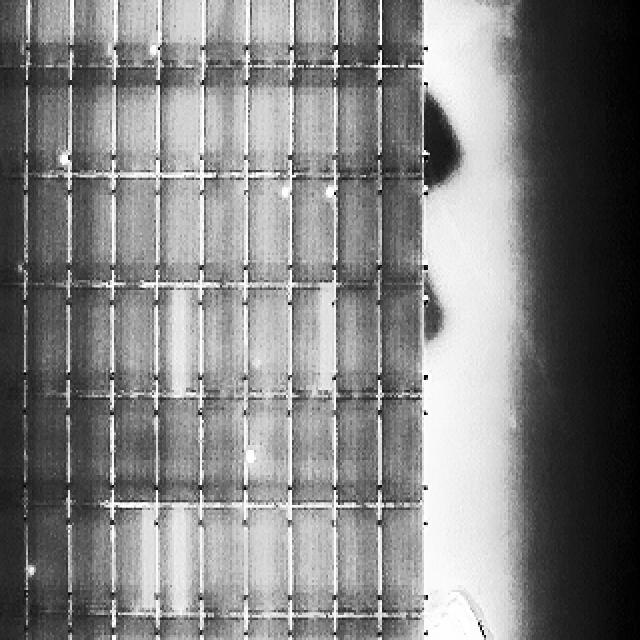Hotspots: (243, 437, 259, 468), (320, 182, 338, 204), (26, 561, 42, 581), (146, 39, 160, 57), (59, 147, 68, 168)
PV-modules: (114, 176, 172, 286), (194, 288, 244, 400), (112, 400, 162, 510), (151, 176, 200, 286), (194, 400, 243, 510), (287, 502, 335, 614), (62, 64, 110, 175), (158, 505, 205, 618), (250, 176, 298, 286), (63, 178, 110, 288), (22, 176, 69, 286), (64, 500, 110, 612), (288, 175, 334, 286), (377, 507, 423, 618), (154, 287, 200, 398), (335, 176, 381, 287), (335, 287, 381, 398), (288, 288, 334, 399), (248, 507, 294, 618), (200, 507, 246, 618), (288, 64, 334, 175), (336, 68, 381, 181), (249, 400, 295, 510), (288, 400, 334, 510), (335, 507, 381, 617), (23, 399, 68, 511), (377, 68, 422, 179), (27, 64, 72, 174), (383, 177, 428, 287), (334, 399, 379, 509), (247, 69, 292, 178), (201, 176, 246, 285), (156, 64, 201, 173), (246, 288, 291, 397), (378, 287, 422, 398), (114, 506, 158, 617), (201, 64, 246, 172), (64, 400, 108, 510), (378, 395, 422, 505), (154, 402, 198, 512), (68, 288, 112, 397), (113, 288, 157, 397), (27, 287, 70, 397), (116, 64, 159, 172), (28, 507, 70, 617), (290, 0, 336, 70), (250, 0, 294, 70), (202, 0, 246, 68), (378, 0, 422, 68), (114, 0, 160, 65), (1, 64, 27, 177), (28, 0, 72, 65), (70, 0, 114, 65), (336, 0, 380, 65), (1, 286, 26, 398), (160, 0, 204, 62), (0, 179, 24, 289), (0, 0, 28, 70), (26, 616, 73, 640), (156, 618, 207, 640), (112, 617, 162, 639), (379, 618, 427, 640), (245, 618, 292, 640), (67, 618, 112, 639)
